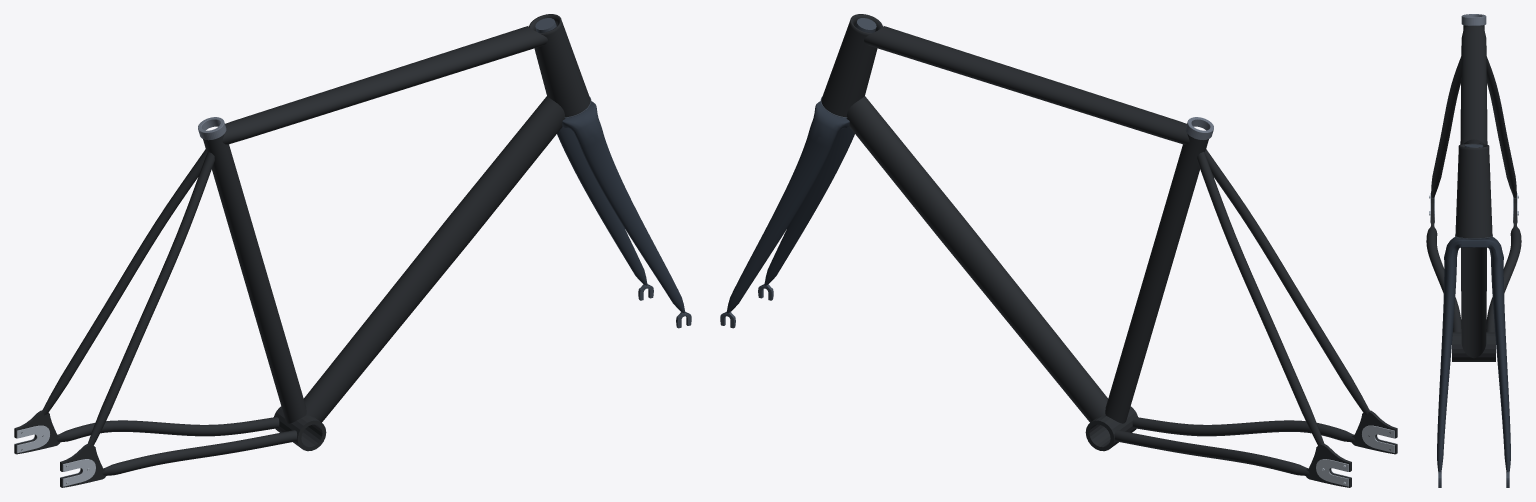
Rendered from 8bar-krzberg-v8-m.glb.
3 views of the same model, side by side, from view 1: azimuth 30°, elevation 25°; view 2: azimuth 150°, elevation 25°; view 3: azimuth 270°, elevation 25° (orthographic). The views are drawn at different scales.
Visible parts, largest first — view 1: paint_down, paint_top, paint_seat, fork_blade_1, paint_seatstay_1, paint_head, paint_seatstay_-1, fork_blade_-1, paint_chainstay_-1, paint_chainstay_1, paint_bottom_bracket, fork_crown (+2 smaller); view 2: paint_down, paint_top, paint_seat, fork_blade_-1, paint_seatstay_-1, paint_head, paint_seatstay_1, fork_blade_1, paint_chainstay_1, paint_chainstay_-1, paint_bottom_bracket, fork_crown (+2 smaller); view 3: paint_head, paint_top, paint_down, fork_blade_1, fork_blade_-1, paint_seatstay_-1, paint_seatstay_1, paint_chainstay_-1, paint_chainstay_1, paint_bottom_bracket, fork_crown, seat_collar.
Boxes of the visible parts, x1,y1,x2,y2 form: paint_down: [304, 96, 565, 422]; paint_top: [222, 26, 547, 144]; paint_seat: [203, 134, 306, 423]; fork_blade_1: [578, 129, 684, 313]; paint_seatstay_1: [87, 152, 214, 445]; paint_head: [529, 14, 590, 117]; paint_seatstay_-1: [42, 149, 207, 415]; fork_blade_-1: [557, 126, 647, 285]; paint_chainstay_-1: [56, 417, 279, 442]; paint_chainstay_1: [102, 430, 297, 475]; paint_bottom_bracket: [274, 406, 326, 451]; fork_crown: [562, 101, 601, 140]; paint_down: [846, 96, 1107, 422]; paint_top: [864, 26, 1189, 144]; paint_seat: [1105, 134, 1208, 423]; fork_blade_-1: [727, 129, 833, 313]; paint_seatstay_-1: [1197, 152, 1324, 445]; paint_head: [821, 14, 882, 117]; paint_seatstay_1: [1204, 149, 1370, 415]; fork_blade_1: [764, 126, 854, 285]; paint_chainstay_1: [1132, 417, 1355, 442]; paint_chainstay_-1: [1114, 430, 1309, 475]; paint_bottom_bracket: [1085, 406, 1137, 451]; fork_crown: [810, 101, 849, 140]; paint_head: [1455, 143, 1492, 238]; paint_top: [1460, 26, 1487, 144]; paint_down: [1461, 247, 1486, 358]; fork_blade_1: [1437, 257, 1456, 472]; fork_blade_-1: [1491, 257, 1510, 472]; paint_seatstay_-1: [1486, 56, 1516, 197]; paint_seatstay_1: [1431, 56, 1461, 197]; paint_chainstay_-1: [1486, 225, 1521, 332]; paint_chainstay_1: [1426, 225, 1461, 332]; paint_bottom_bracket: [1452, 332, 1495, 361]; fork_crown: [1444, 237, 1503, 258]; seat_collar: [1461, 14, 1486, 25].
Size of the model in its own units: 1.02 by 0.5559 by 0.1464.
